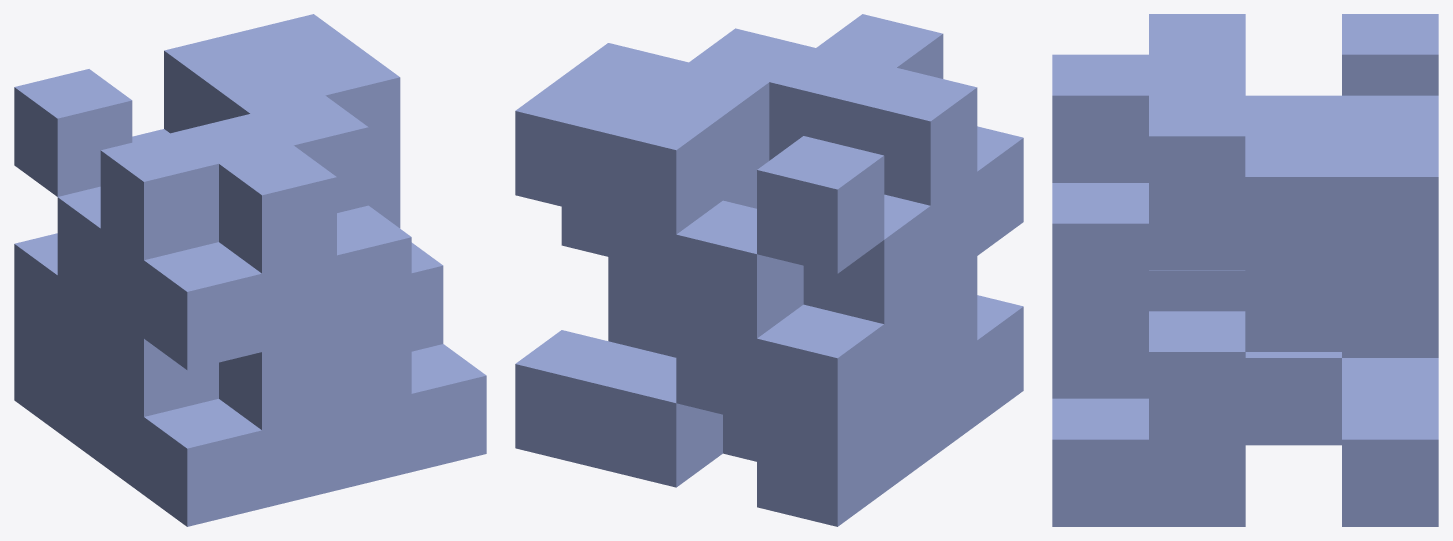
The picture shows the model from 3 angles, left to right: view 1: azimuth 30°, elevation 25°; view 2: azimuth 150°, elevation 25°; view 3: azimuth 270°, elevation 25°; orthographic projection. The views are drawn at different scales.
Parts seen in each view (by area): view 1: _changes.010; view 2: _changes.010; view 3: _changes.010.
Part boxes in pixels (x1,y1,x2,y2): _changes.010: (14,14,486,526); _changes.010: (515,14,1023,526); _changes.010: (1052,14,1438,526).
Size of the model in its own units: 0.1041 by 0.1041 by 0.1041.
